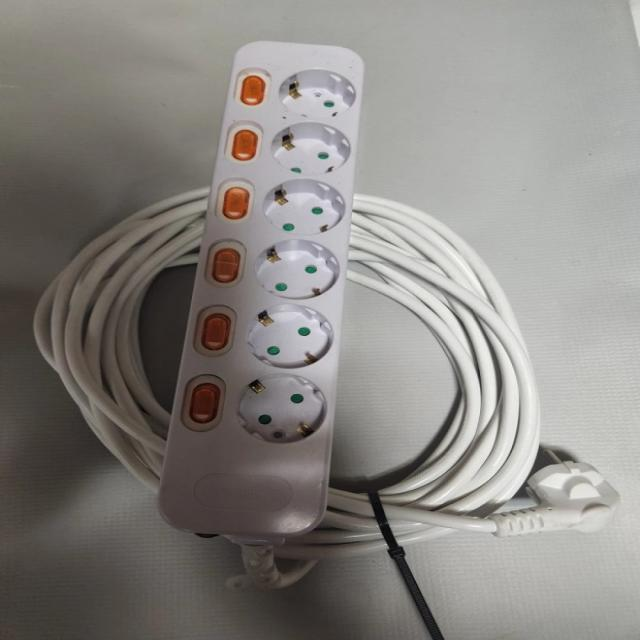typeb: (168, 22, 395, 550)
